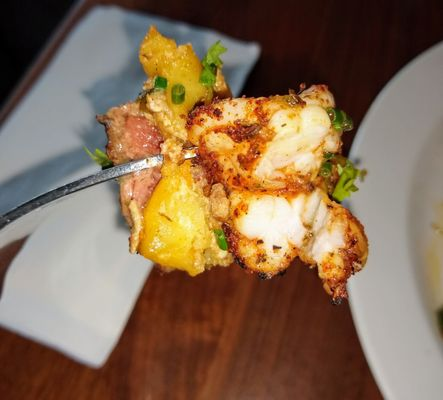sandwich: (0, 153, 162, 240)
